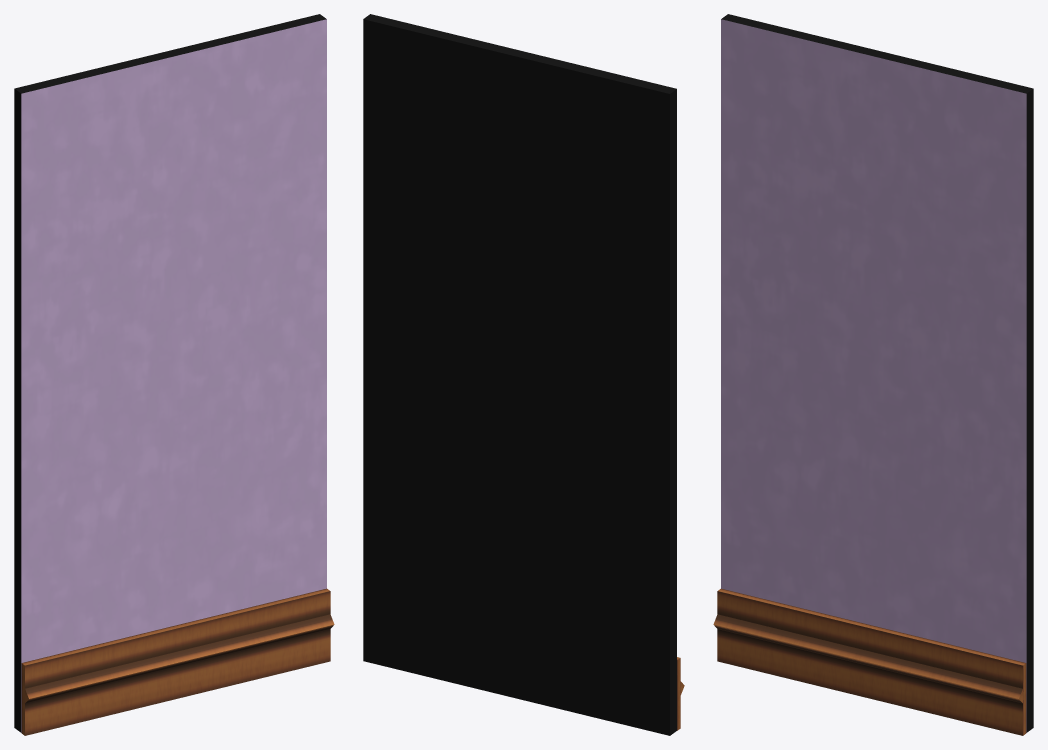
Rendered from Wall_A_2_5_02.FBX.
3 views of the same model, side by side, from view 1: azimuth 30°, elevation 25°; view 2: azimuth 150°, elevation 25°; view 3: azimuth 330°, elevation 25° (orthographic).
Parts seen in each view (by area): view 1: Wall_Plain_2p5m001; view 2: Wall_Plain_2p5m001; view 3: Wall_Plain_2p5m001.
Part boxes in pixels (x1,y1,x2,y2): Wall_Plain_2p5m001: (14, 14, 334, 735); Wall_Plain_2p5m001: (363, 14, 684, 735); Wall_Plain_2p5m001: (713, 14, 1033, 735).
Size of the model in its own units: 250 by 500 by 20.83.
